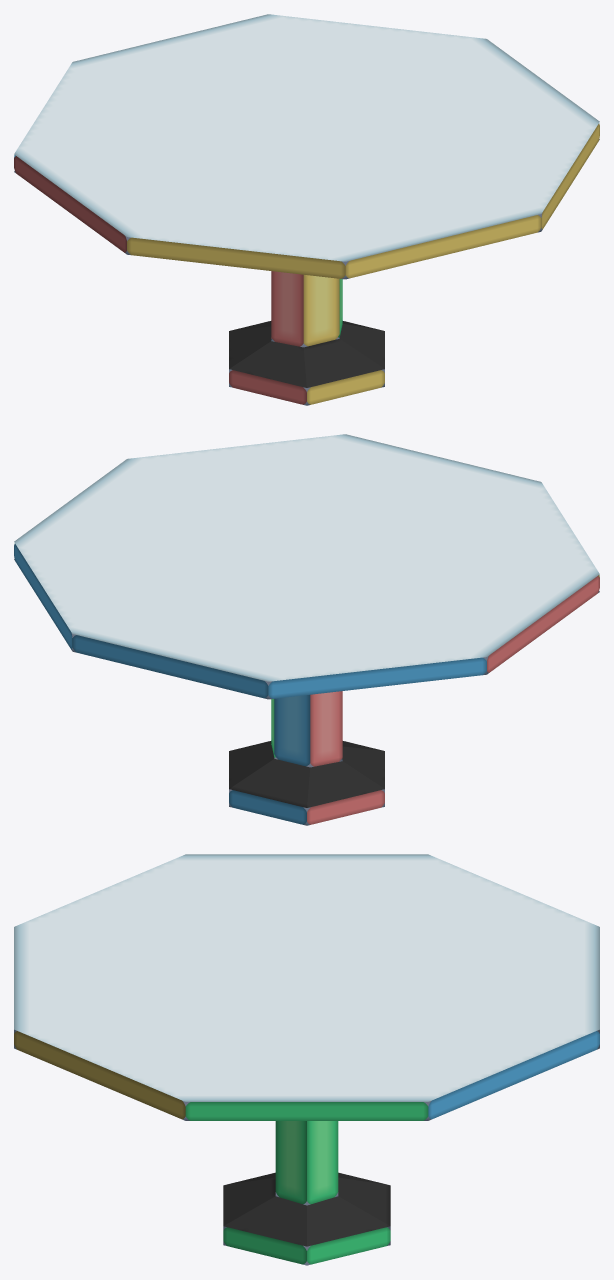
File: table_living.obj
The picture shows the model from 3 angles, top to bottom: view 1: azimuth 30°, elevation 25°; view 2: azimuth 150°, elevation 25°; view 3: azimuth 270°, elevation 25°; orthographic projection. The views are drawn at different scales.
Visible parts, largest first — view 1: cylinder, leg; view 2: cylinder, leg; view 3: cylinder, leg.
Part boxes in pixels (left/top/right/bottom): cylinder: left=14, top=14, right=599, bottom=279; leg: left=229, top=271, right=384, bottom=405; cylinder: left=14, top=434, right=599, bottom=699; leg: left=229, top=691, right=384, bottom=825; cylinder: left=14, top=854, right=599, bottom=1120; leg: left=223, top=1121, right=390, bottom=1265.
Size of the model in its own units: 1.75 by 0.8125 by 1.75.
Materials: 1 (1 with a texture image).
